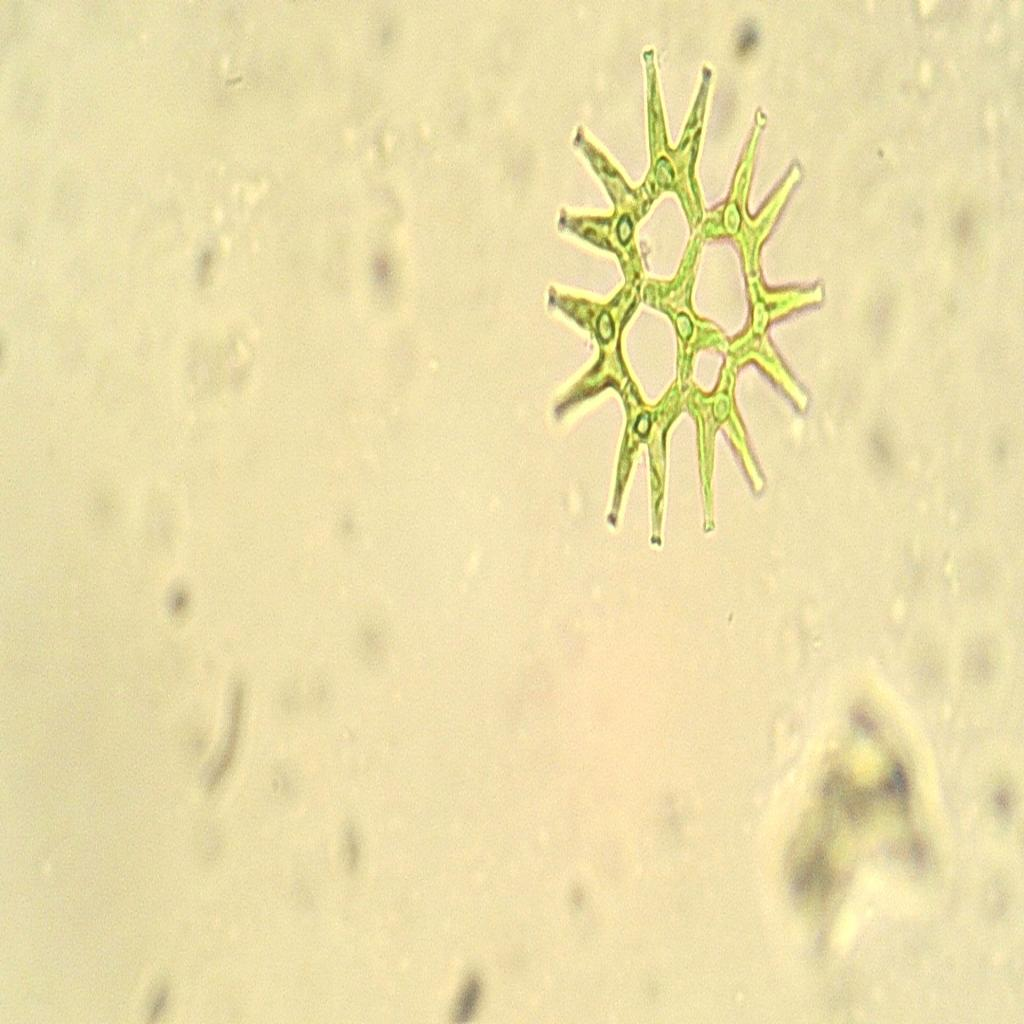Pediastrum_75T: (513, 36, 838, 566)
